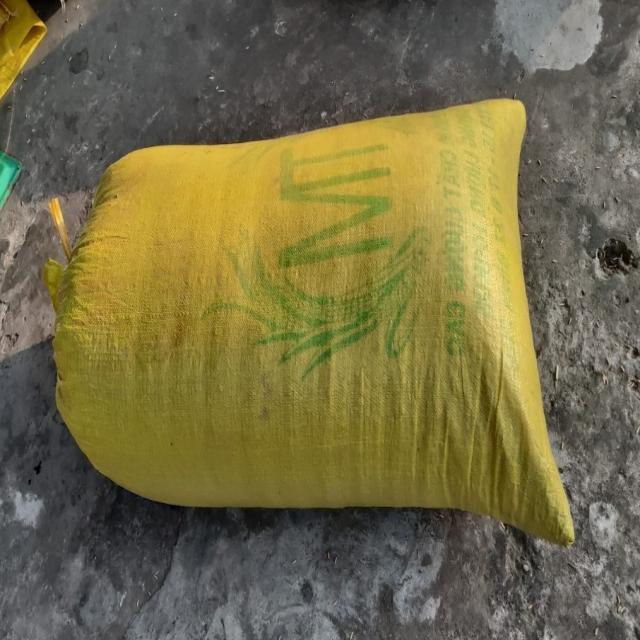gunny_bag: (45, 100, 575, 546)
